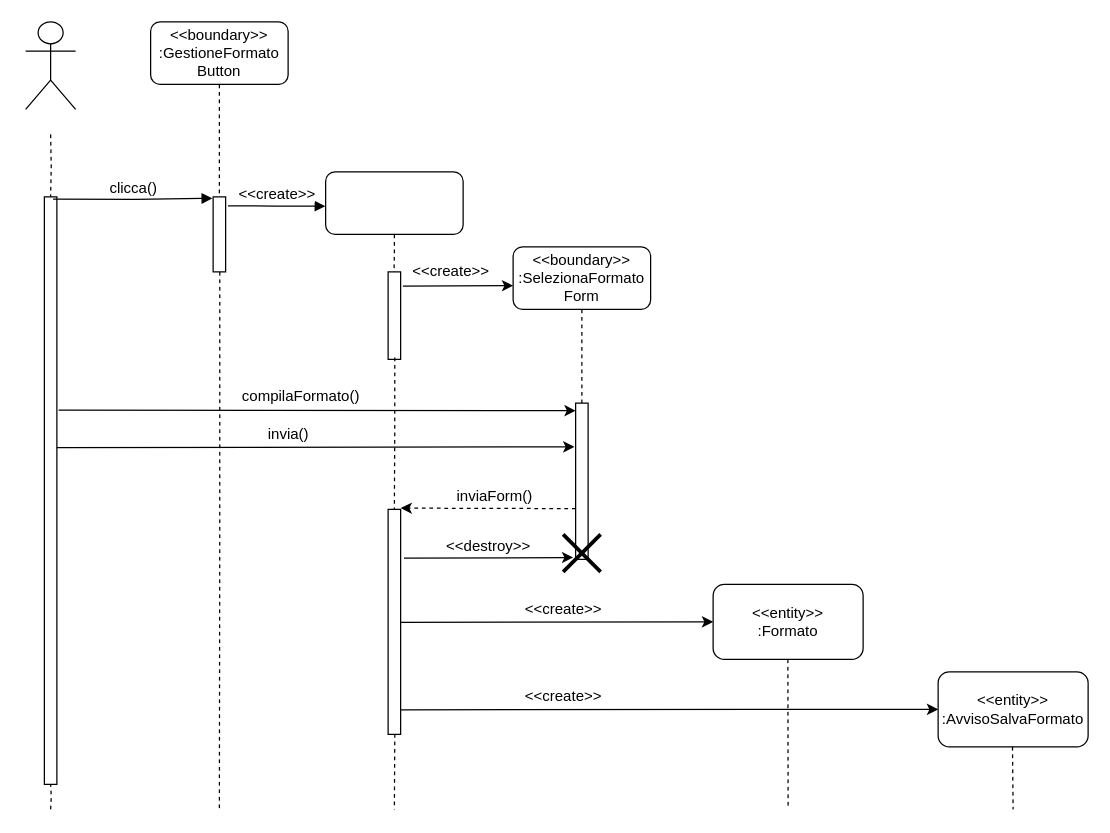
Image size: 1110x833. Some labels were removed from this diagram. Here are the shapes that lost their labels. From the top down, the centre of each, then its label:
At point (50, 65): "Direttore".
At point (393, 202): "<<control>> :FormatoReport Control".
